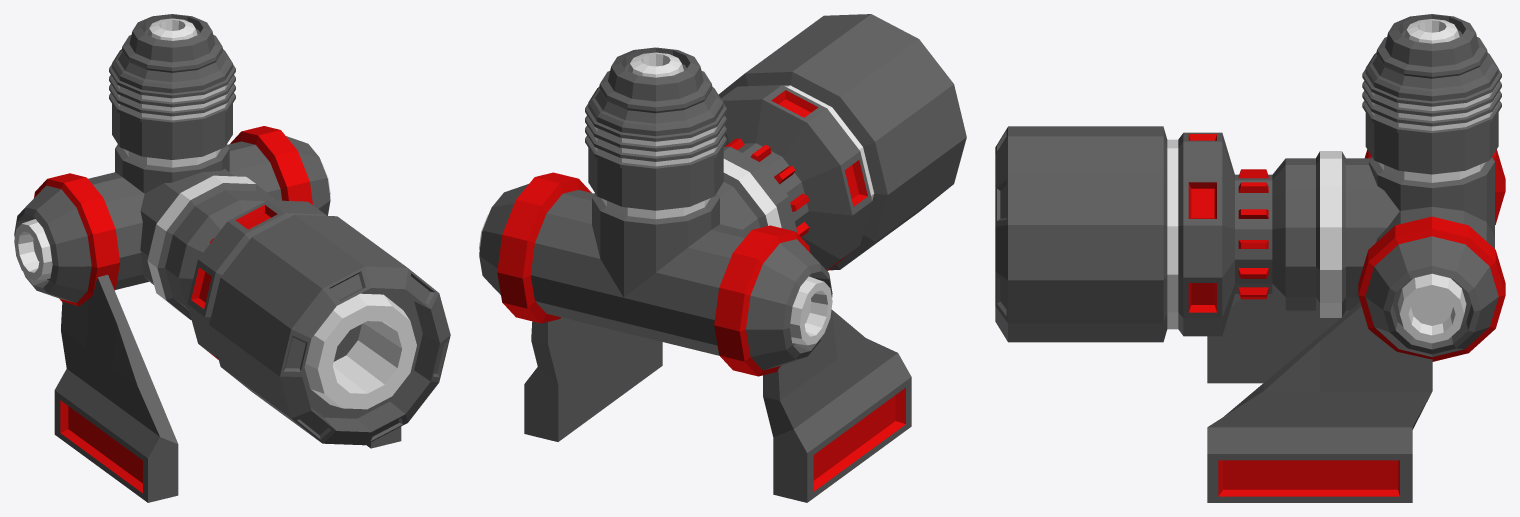
The model's file is tower3_1.fbx.
3 views of the same model, side by side, from view 1: azimuth 30°, elevation 25°; view 2: azimuth 150°, elevation 25°; view 3: azimuth 270°, elevation 25° (orthographic). The views are drawn at different scales.
Visible parts, largest first — view 1: polySurface122; view 2: polySurface122; view 3: polySurface122.
Part boxes in pixels (x1,y1,x2,y2): polySurface122: (14,14,450,502); polySurface122: (479,14,966,502); polySurface122: (995,14,1505,502).
Size of the model in its own units: 0.518 by 0.6414 by 0.7261.
